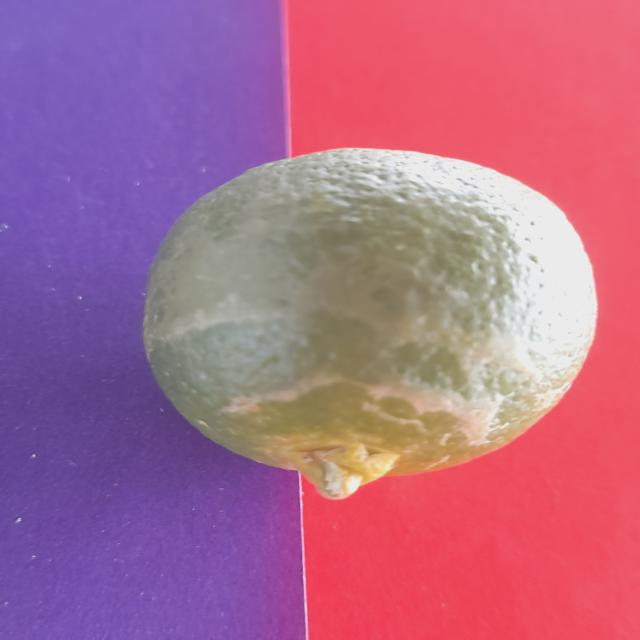thrips: (147, 146, 600, 488)
